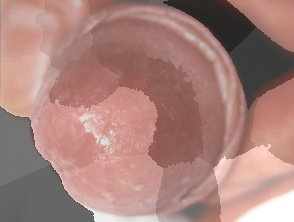SJS-TEN: (20, 0, 256, 222)
